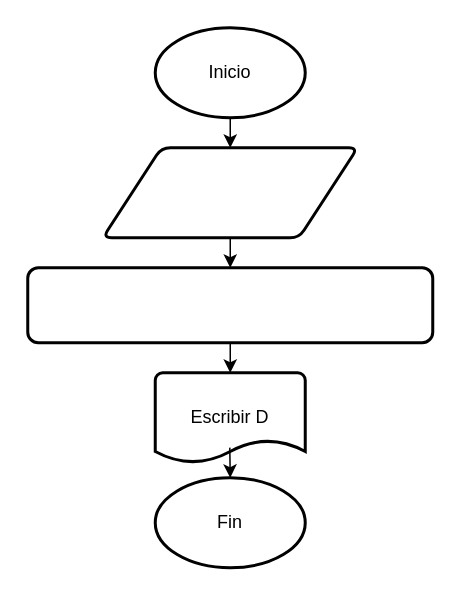
Image size: 459x594. Some labels were removed from this diagram. The shapes that lost their labels are listed below. From the top down, each one's box as (x1, y1, x2, y2) in pixels, then its label:
(100, 146, 358, 238): Leer x1 ,y1, x2, y2
(26, 266, 434, 344): D = sqrt((x2 - x1)^2 + (y2 - y1)^2)
